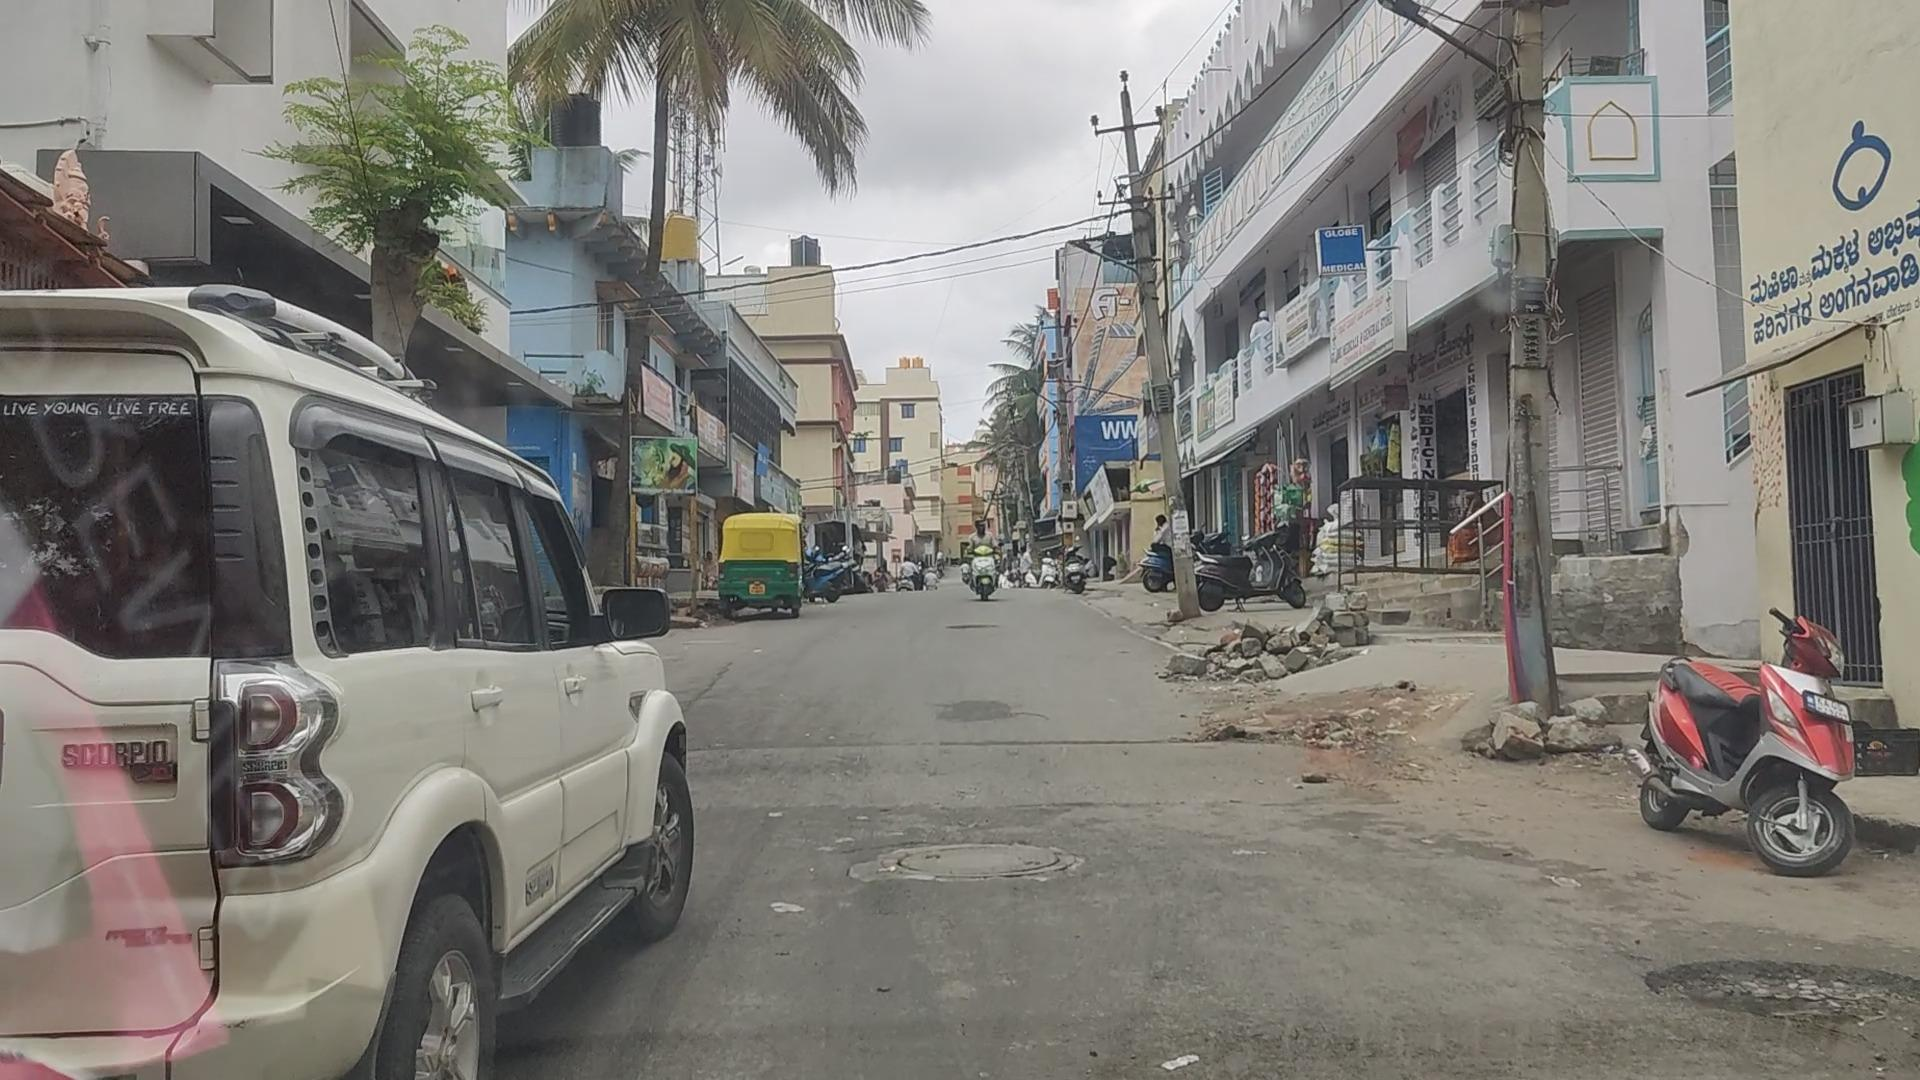RoadDamages: (1636, 940, 1920, 1044), (858, 829, 1108, 898)
